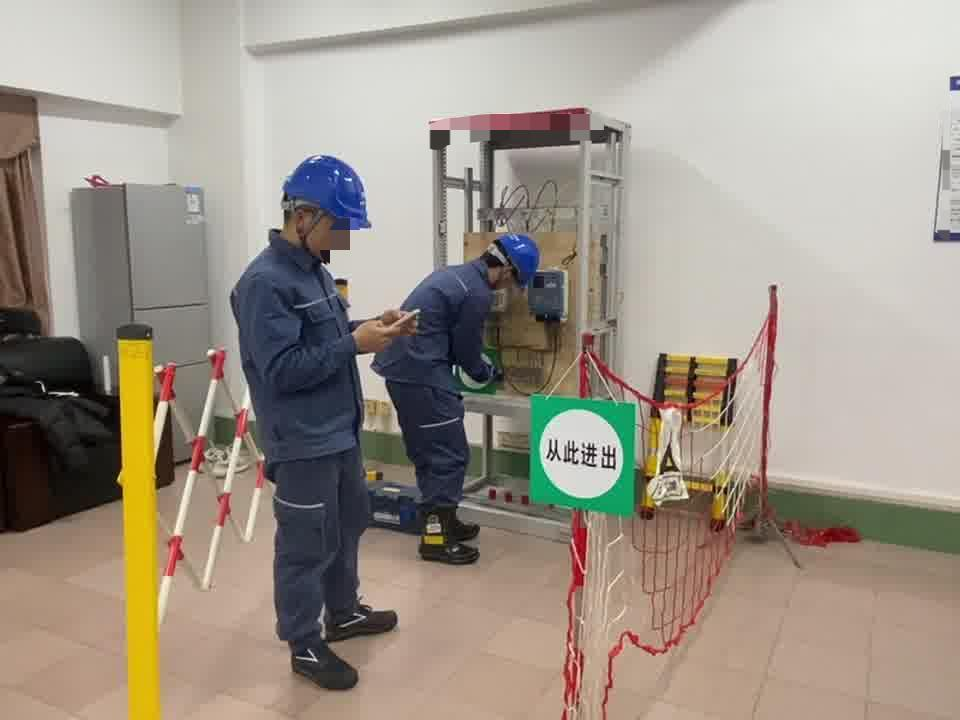halt: (279, 155, 373, 257), (486, 235, 545, 296)
inear: (292, 203, 325, 244), (493, 261, 518, 289)
